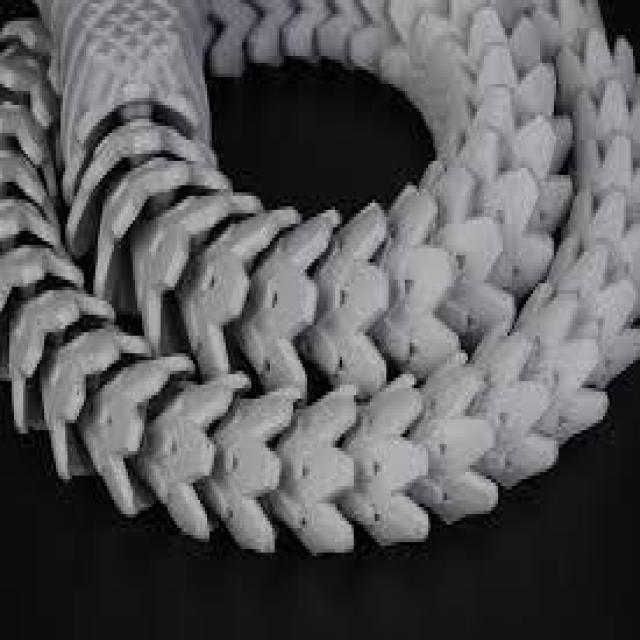Without deffect: (0, 1, 640, 571)
